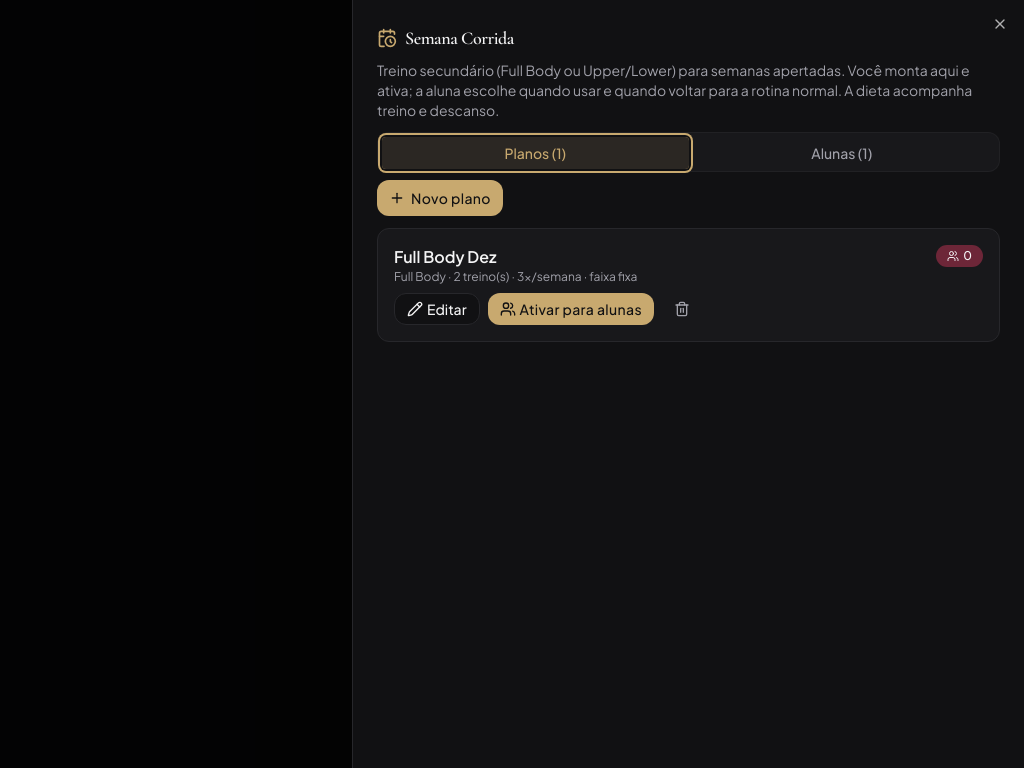
Test: Semana Corrida — biblioteca do coach › ativar para várias alunas de uma vez (avisa quem já usa outro plano)
Later steps or results of the test are not shown.
Click the button with test id "busy-activate-p1": (571, 309) [488, 293, 654, 325]
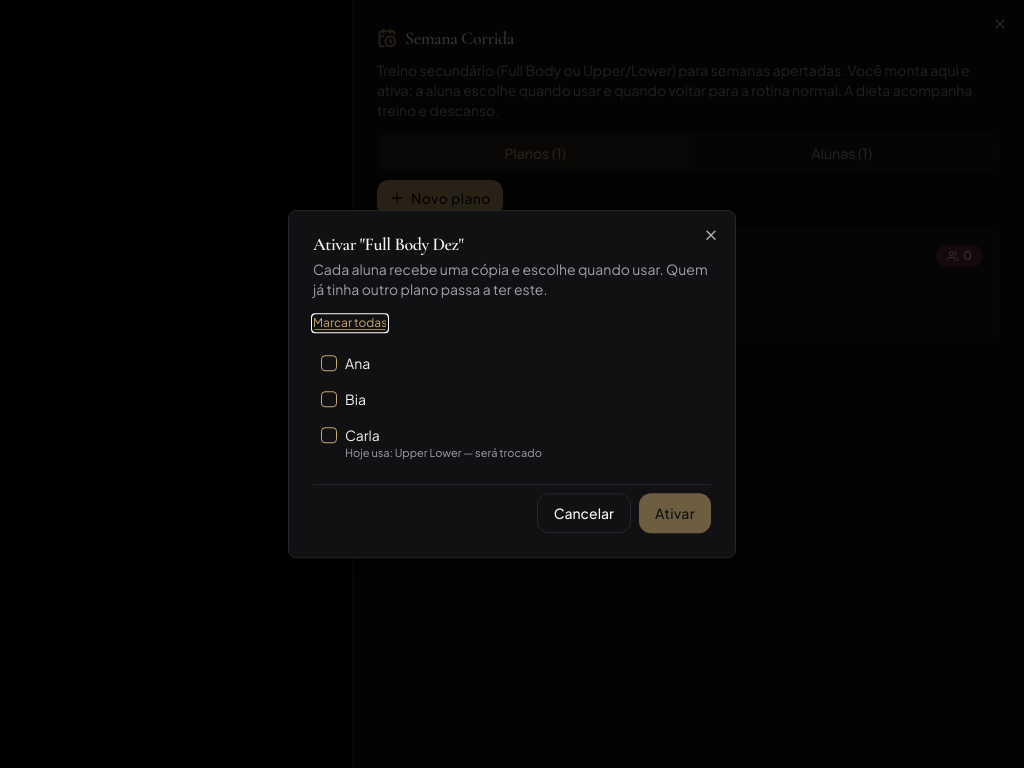
Expected: the text "Hoje usa: Upper Lower — será trocado" is shown, [345, 445, 542, 462]
